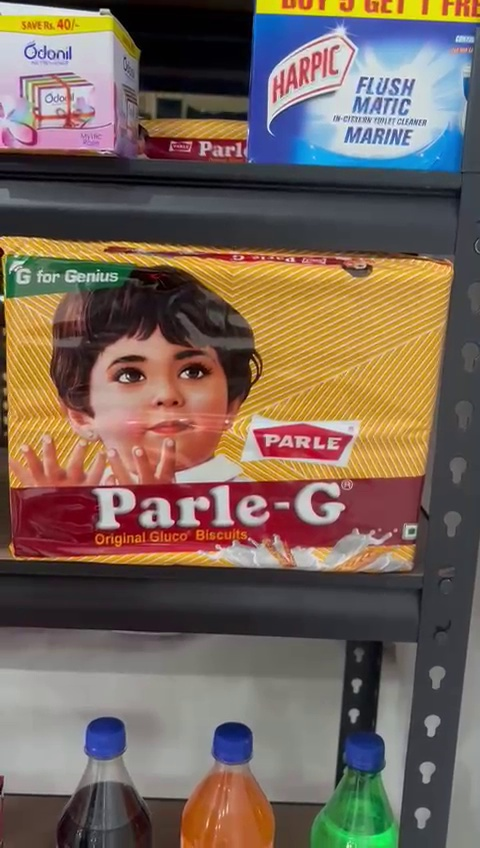Harpic: (249, 1, 480, 170)
Odonil: (0, 2, 134, 163)
Parle-G: (1, 230, 423, 579)
